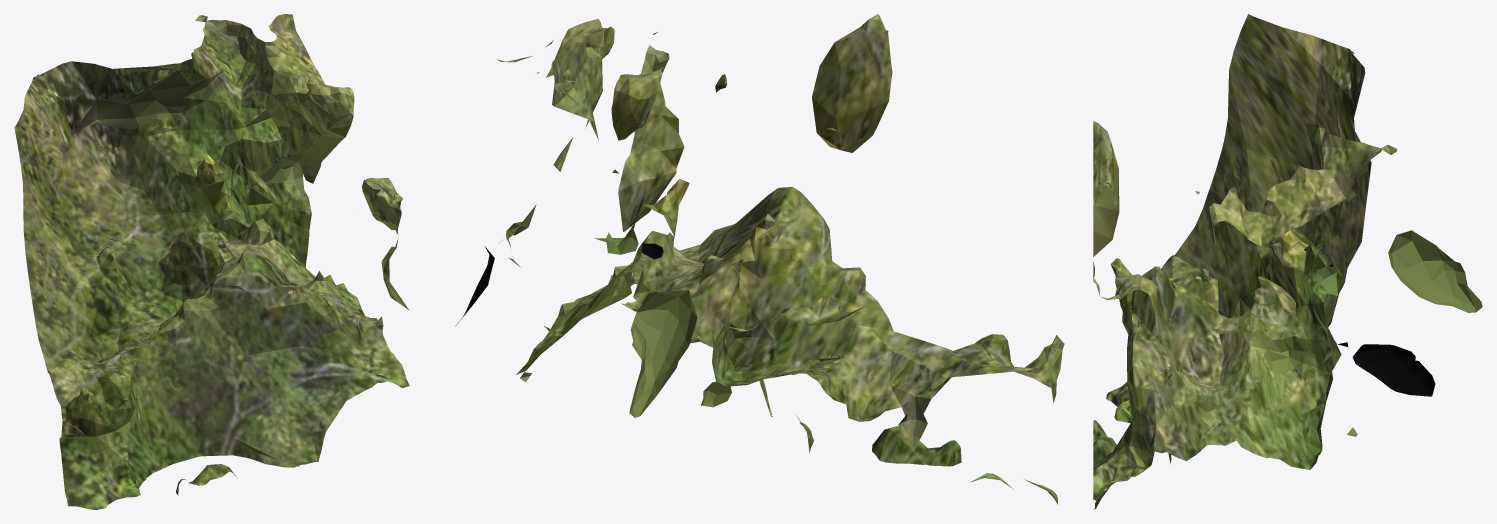
The picture shows the model from 3 angles, left to right: view 1: azimuth 30°, elevation 25°; view 2: azimuth 150°, elevation 25°; view 3: azimuth 270°, elevation 25°; orthographic projection. The views are drawn at different scales.
Size of the model in its own units: 2.95 by 2.95 by 2.8.
Materials: 5 (5 with a texture image).
